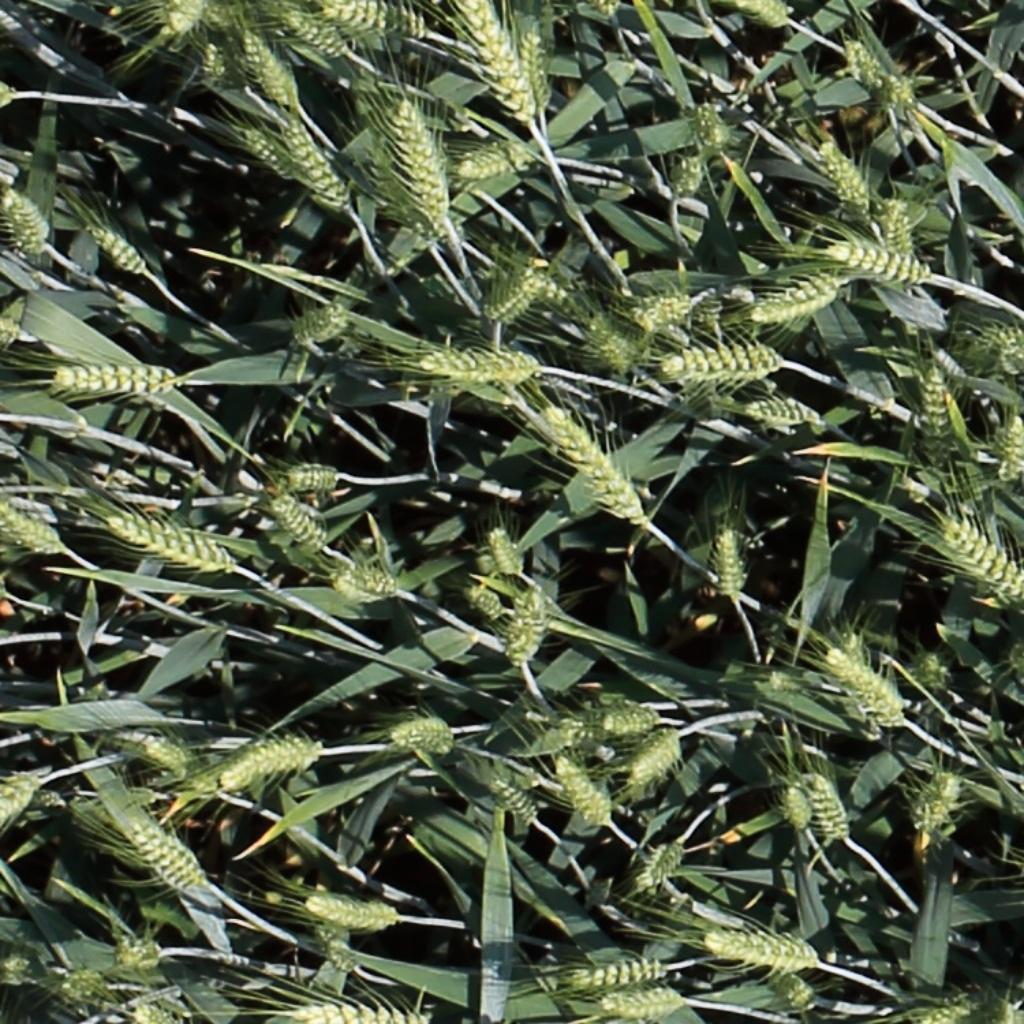0-0: (544, 401, 651, 527), (455, 0, 540, 126), (106, 514, 242, 573), (942, 511, 1024, 605), (395, 94, 451, 230), (282, 107, 353, 211), (827, 648, 909, 731), (49, 352, 185, 402), (917, 357, 969, 475), (221, 729, 326, 785), (237, 23, 301, 114), (659, 340, 788, 385), (816, 131, 879, 223), (125, 821, 202, 892), (559, 956, 672, 1003), (552, 752, 616, 834), (843, 34, 910, 109), (418, 350, 549, 388), (697, 927, 821, 966), (490, 267, 567, 320), (268, 491, 330, 555), (273, 4, 346, 55), (0, 180, 50, 253), (326, 1, 430, 36), (281, 1000, 431, 1024), (585, 309, 637, 378), (831, 244, 932, 279), (811, 771, 856, 849), (758, 278, 840, 319), (0, 499, 61, 554), (914, 768, 959, 841), (105, 735, 189, 774), (0, 772, 38, 858), (735, 396, 824, 432), (47, 962, 111, 1012), (486, 774, 543, 830), (240, 124, 300, 177), (87, 222, 148, 274), (641, 836, 693, 897), (520, 19, 552, 114), (512, 581, 544, 673), (591, 987, 689, 1017), (974, 321, 1024, 378), (486, 275, 544, 323), (629, 738, 684, 787), (486, 522, 529, 584), (761, 970, 820, 1014), (334, 569, 399, 608), (288, 303, 348, 345), (305, 901, 400, 927), (639, 289, 699, 330), (670, 147, 709, 204), (160, 0, 217, 39), (718, 522, 745, 604), (886, 191, 916, 264), (996, 412, 1024, 488), (697, 92, 729, 155), (783, 778, 816, 839), (918, 647, 953, 700), (898, 1006, 1001, 1024), (464, 584, 509, 625), (321, 929, 362, 973), (279, 463, 341, 492), (730, 0, 791, 24), (391, 727, 457, 749), (200, 35, 226, 88), (989, 985, 1024, 1024), (122, 941, 163, 966), (129, 1003, 173, 1024), (0, 308, 20, 342), (0, 84, 12, 113)
